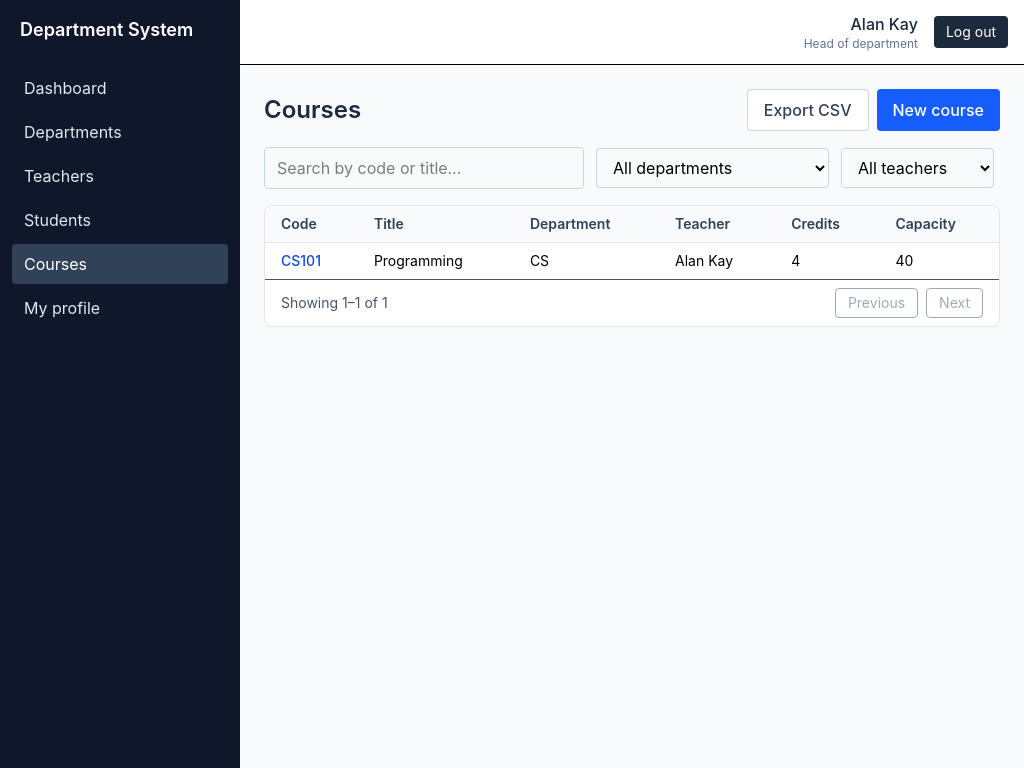
Export CSV uses the current filters (FR-9.1) › a failed export shows the error
Expected: the table is shown, [265, 206, 999, 279]
Click the button "Export CSV" at (808,110), box [747, 89, 868, 131]
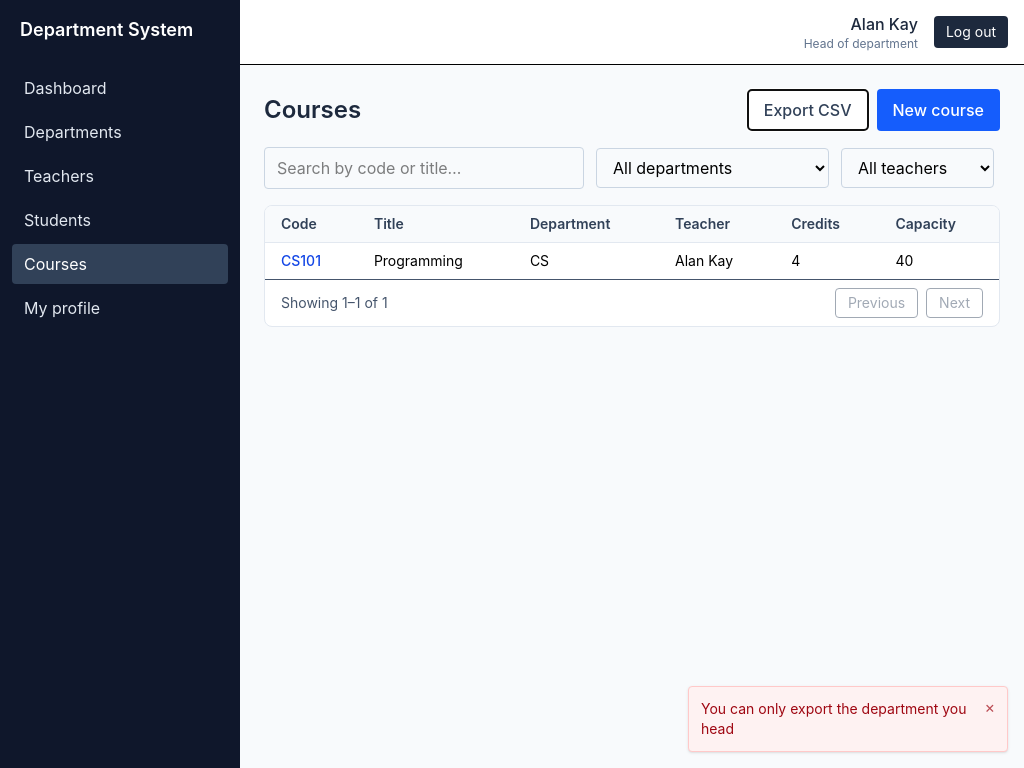
Now the message shows "You can only export the department you head", box [701, 700, 966, 737]
